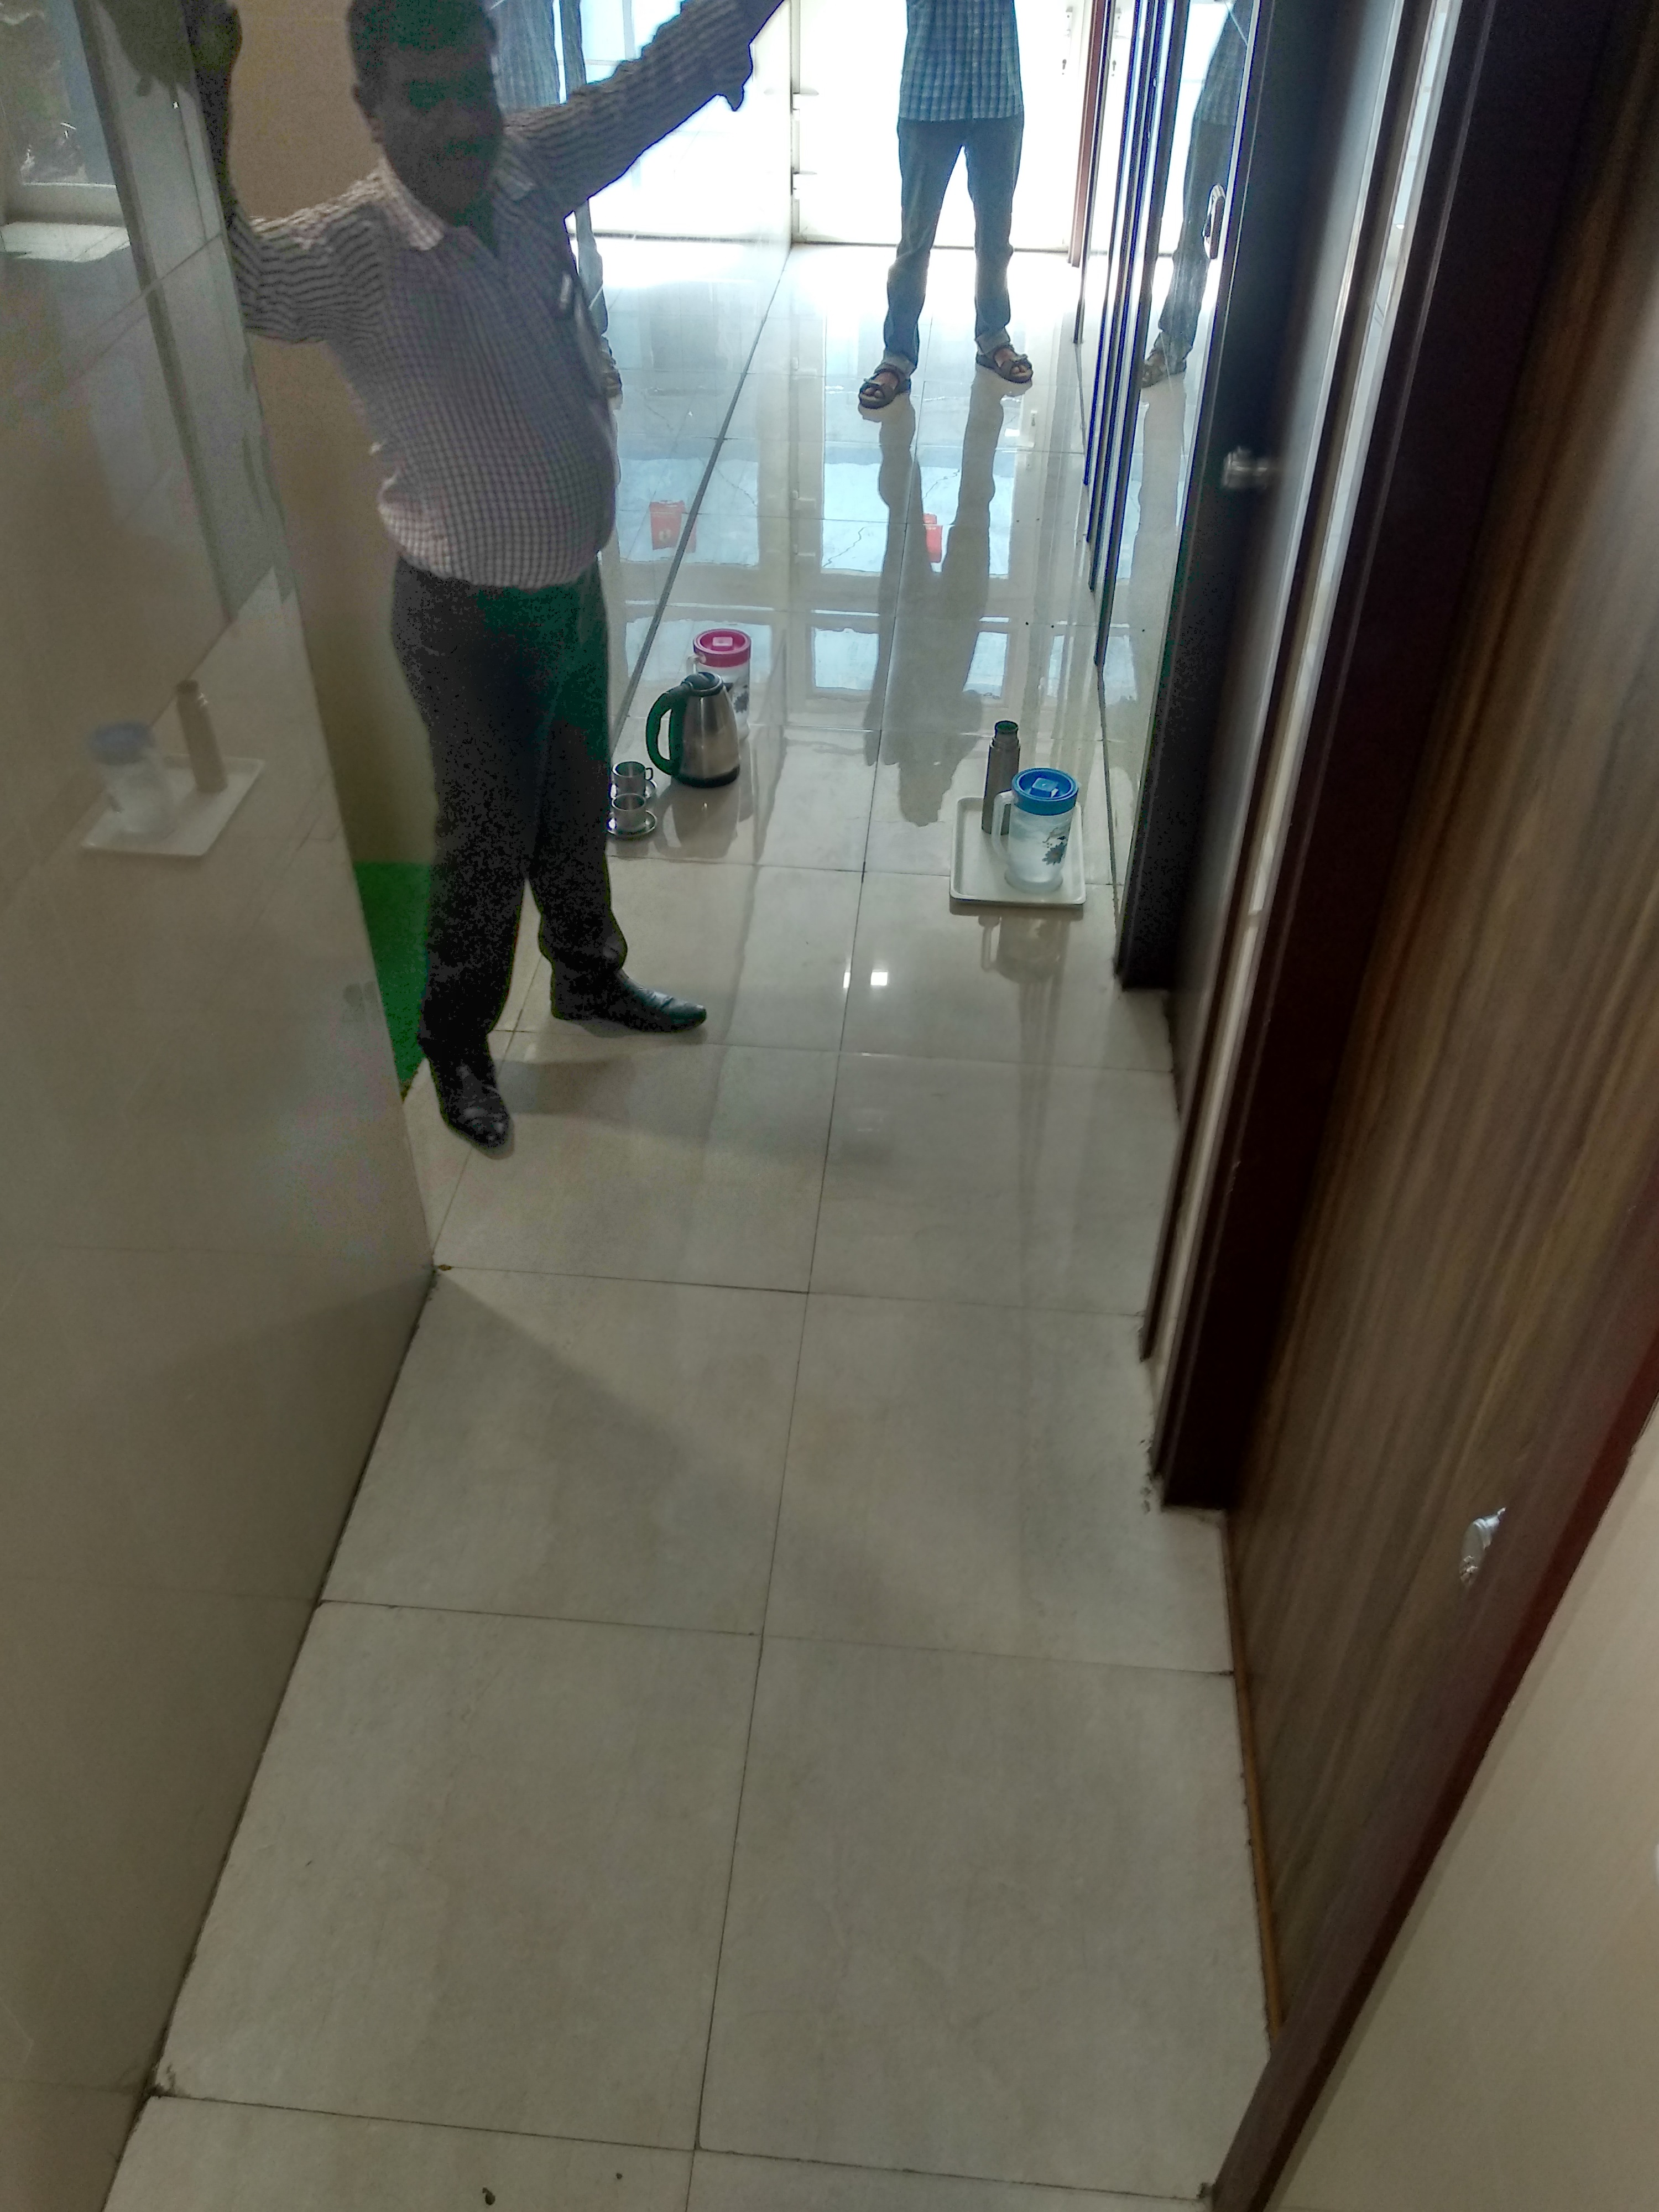CUP: (608, 792, 657, 836), (613, 759, 657, 791)
FLASK: (983, 702, 1021, 841)
JUG: (645, 665, 758, 792), (988, 761, 1086, 900), (685, 622, 755, 665)
